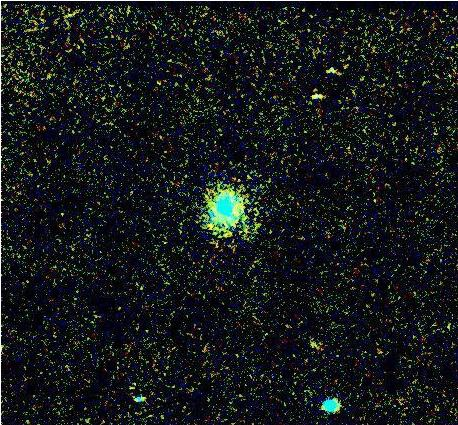star: (191, 214, 221, 244)
